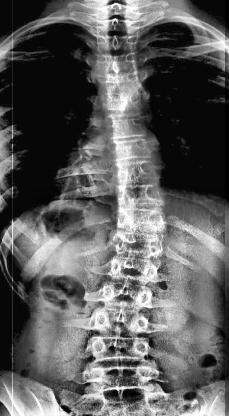Vertebrae: (85, 366, 165, 394), (87, 335, 156, 363), (88, 308, 154, 332), (95, 70, 151, 96), (90, 53, 150, 76), (99, 90, 151, 116), (101, 282, 155, 306), (116, 184, 166, 209), (108, 138, 160, 162), (104, 118, 156, 142), (109, 233, 163, 256), (112, 162, 161, 186), (110, 254, 158, 278), (115, 212, 167, 232), (96, 33, 144, 53), (96, 18, 140, 32)
